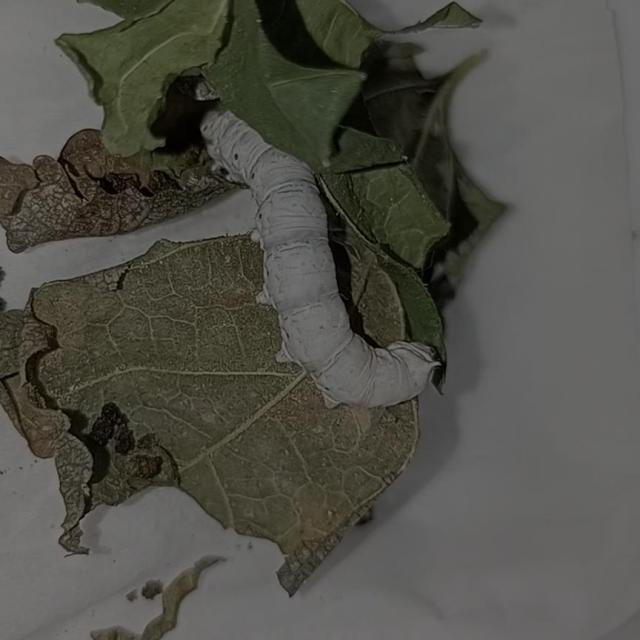Healthy: (186, 99, 447, 418)
